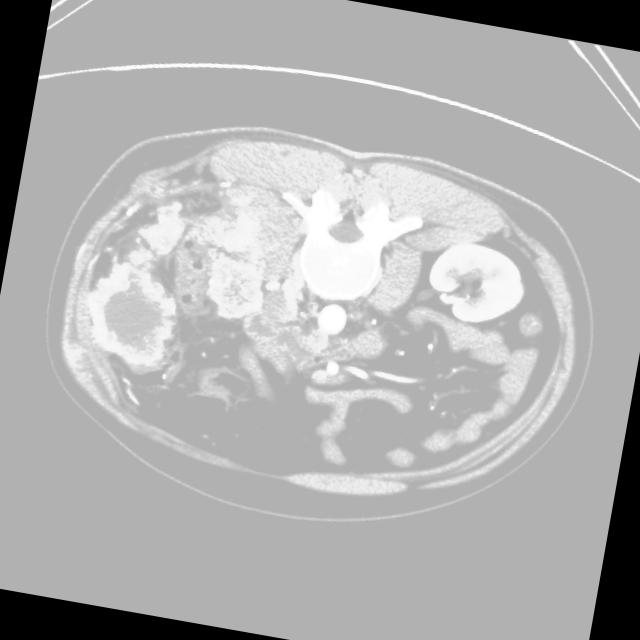TUMOR: (93, 154, 525, 472)
